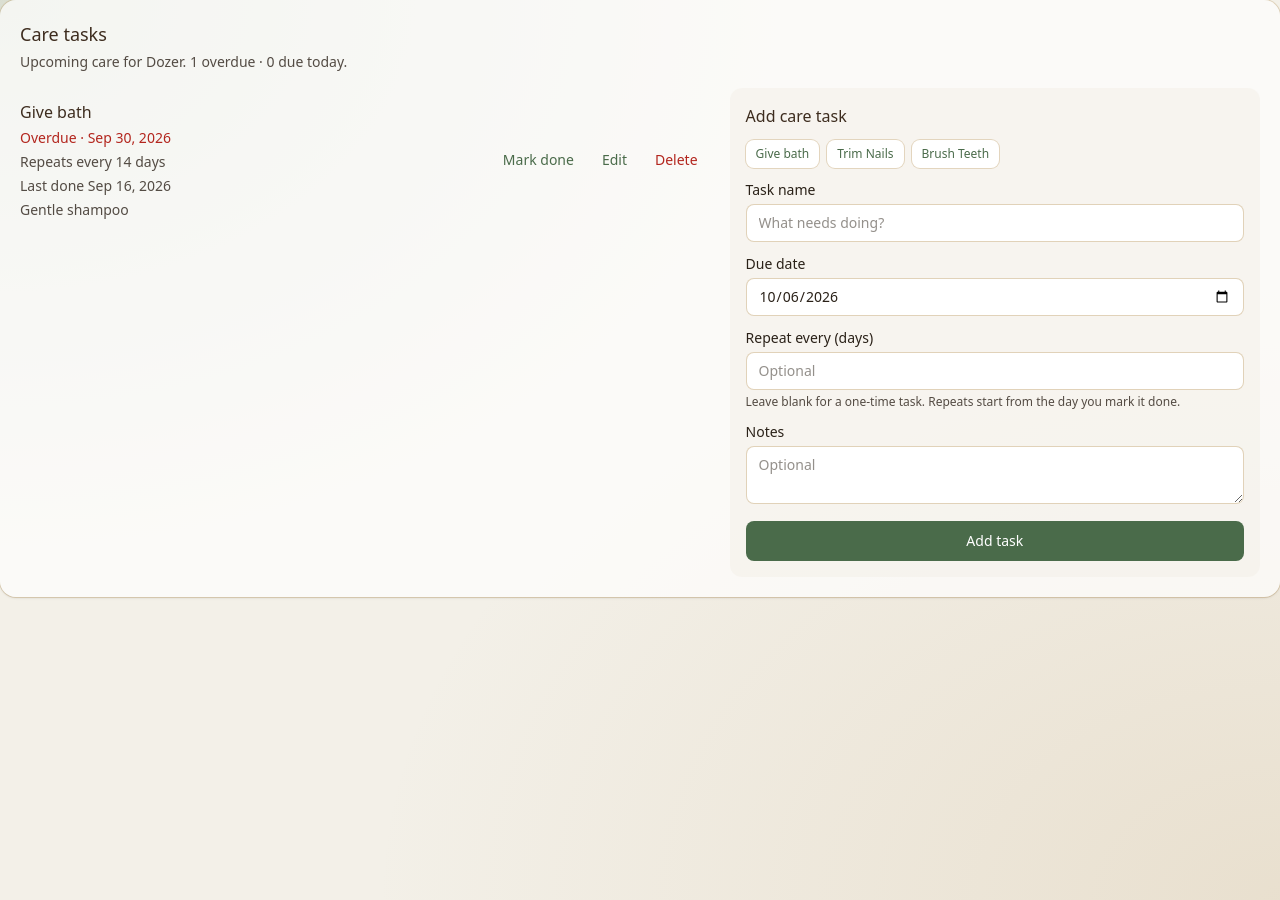
CareTasksPanel › does not report completion when its write fails
Click the button with aria-label "Mark done: Give bath". click: (538,160)
box: [491, 144, 586, 176]
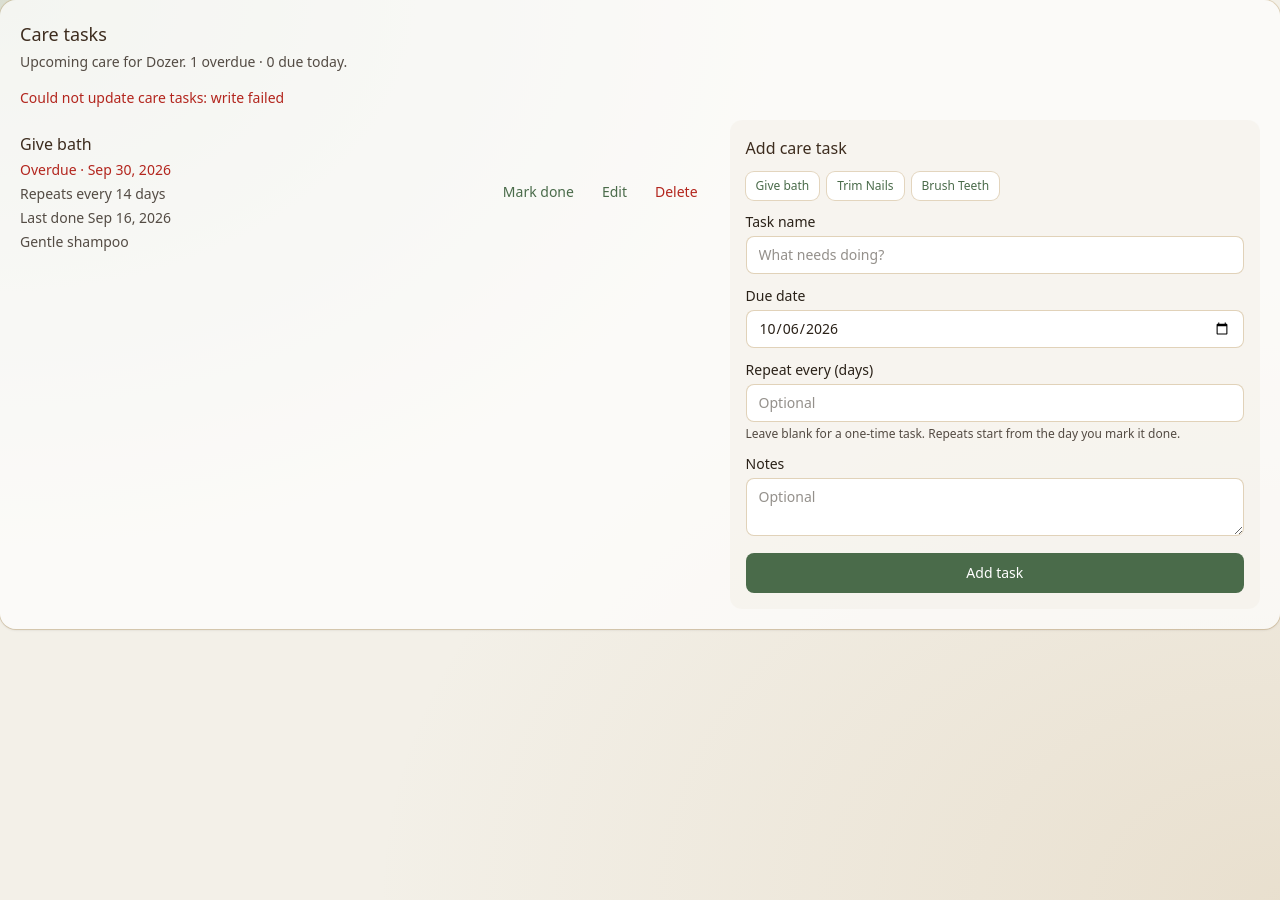
Expected: the button with aria-label "Mark done: Give bath" is enabled, [491, 176, 586, 208]
Now the message shows "write failed", box [20, 88, 284, 107]
